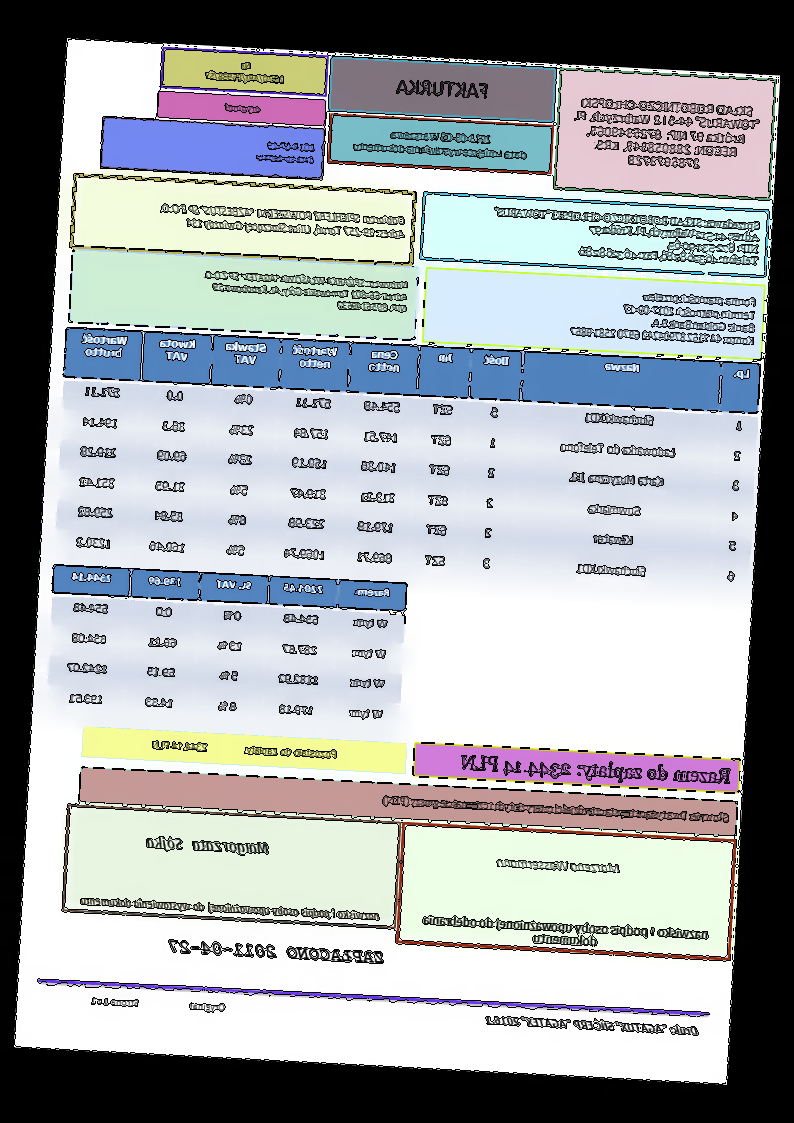Table: (52, 326, 763, 599), (45, 563, 409, 735)
TextBox: (491, 204, 763, 270), (569, 94, 763, 175), (381, 791, 731, 828), (419, 911, 712, 954), (459, 746, 734, 789), (569, 285, 759, 347), (157, 199, 409, 244), (200, 266, 412, 317), (78, 892, 382, 923), (167, 937, 387, 968), (352, 126, 529, 161), (484, 1011, 700, 1037), (149, 735, 341, 763), (87, 991, 229, 1016), (493, 853, 624, 878), (145, 832, 272, 857), (202, 55, 287, 87), (393, 75, 492, 102), (255, 137, 317, 167), (223, 100, 263, 117)
